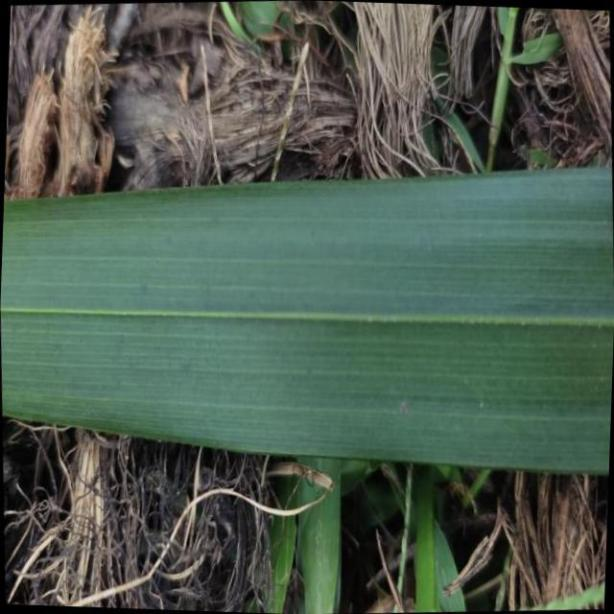Healthy: (0, 163, 614, 478)
